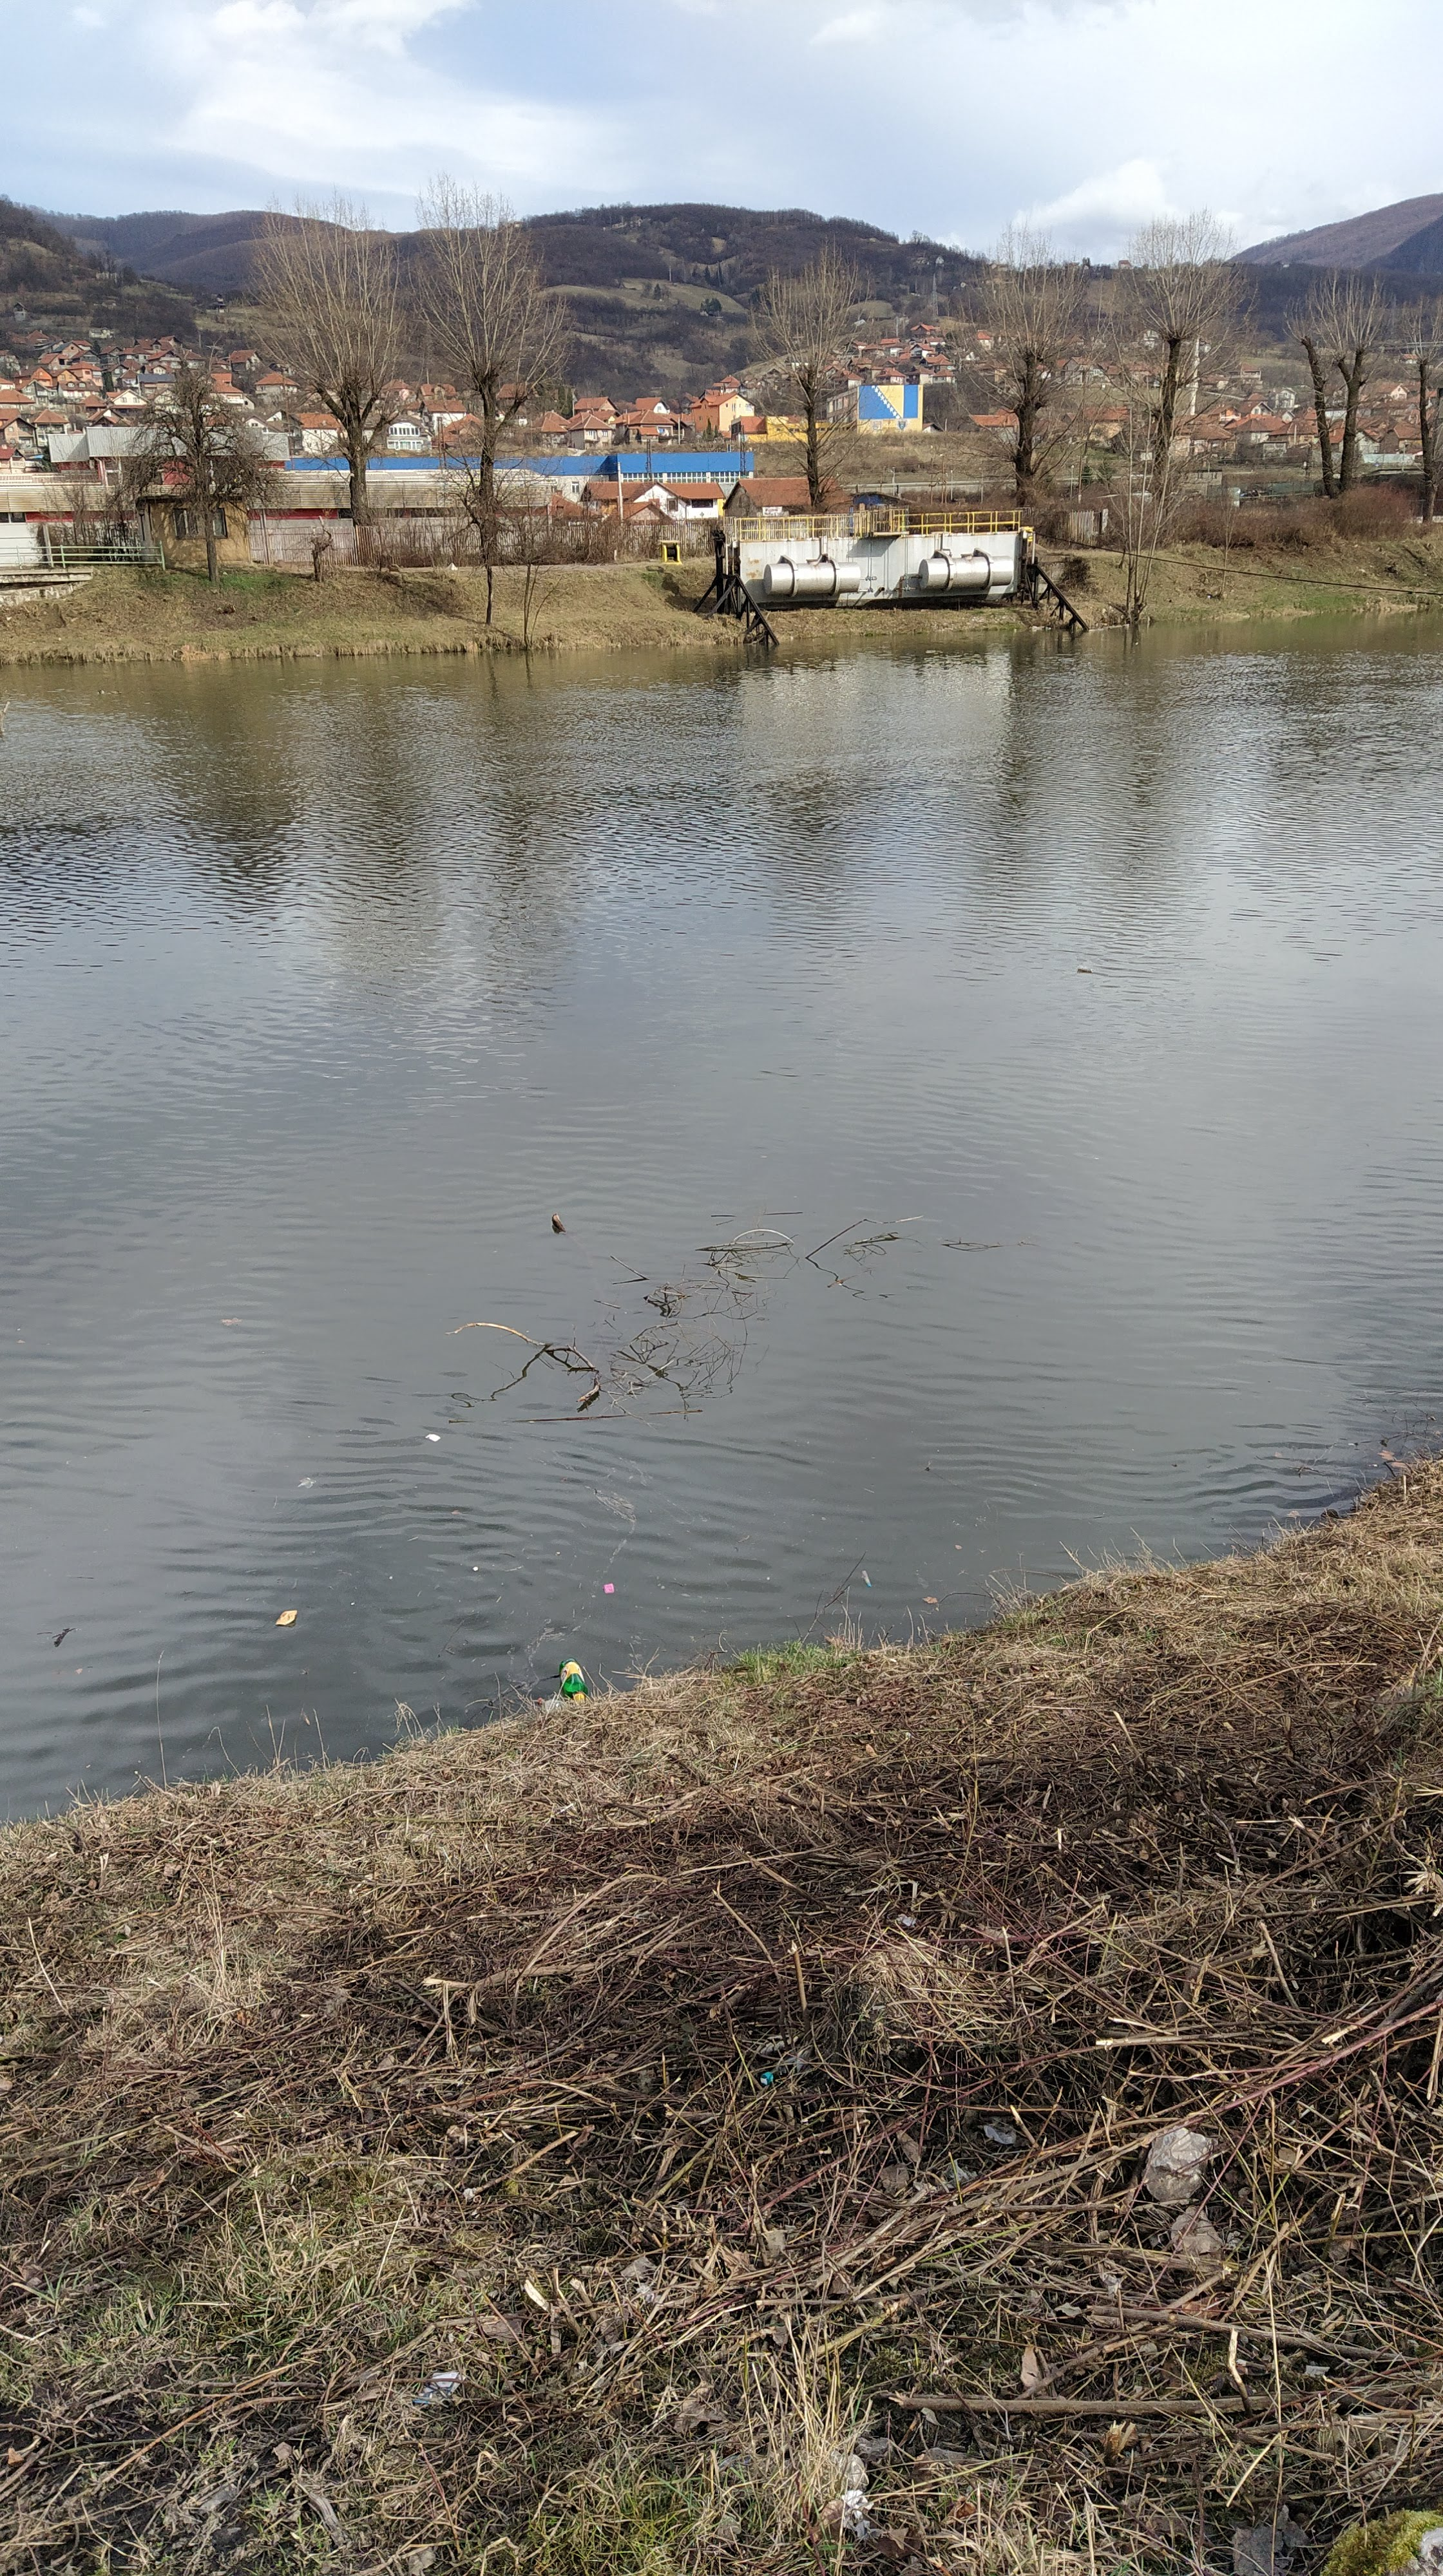Plastic Bottle: (558, 1656, 588, 1702), (536, 1698, 558, 1709), (1078, 966, 1092, 973), (97, 688, 103, 694)
